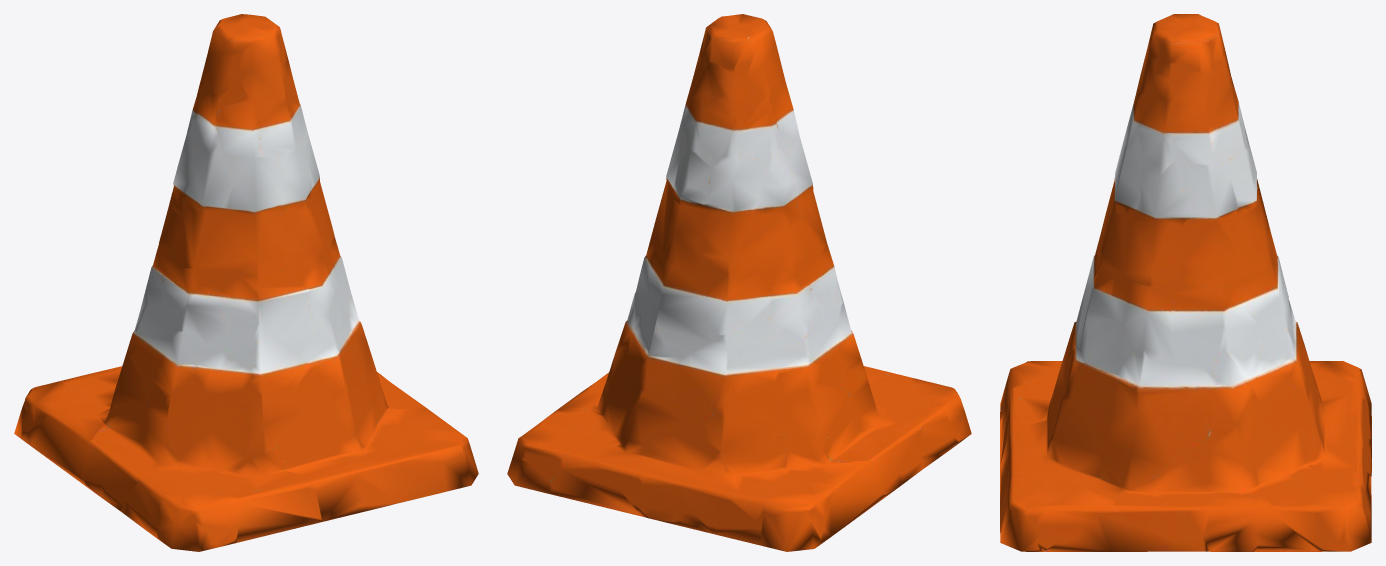
3 renders of one model, left to right at view 1: azimuth 30°, elevation 25°; view 2: azimuth 150°, elevation 25°; view 3: azimuth 270°, elevation 25°, orthographic. The views are drawn at different scales.
Size of the model in its own units: 1.43 by 1.9 by 1.43.
1 material, 1 textured.
